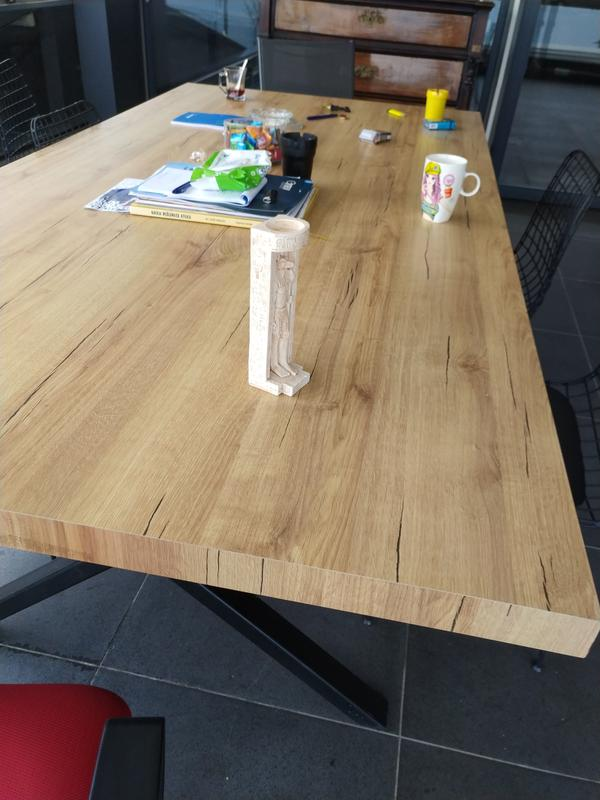heykel: (245, 212, 318, 401)
